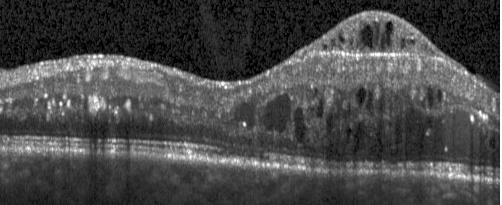intraretinal_cyst: (263, 94, 291, 131), (234, 102, 256, 130), (333, 91, 351, 120), (293, 107, 306, 140), (359, 23, 374, 49), (354, 87, 367, 107), (365, 91, 375, 113), (377, 94, 386, 115), (327, 109, 334, 135), (386, 22, 393, 47), (316, 98, 324, 119), (427, 86, 433, 109), (374, 22, 379, 46), (380, 32, 385, 51), (436, 89, 442, 102), (338, 33, 345, 44), (400, 38, 405, 49), (313, 87, 318, 98), (331, 39, 337, 47), (322, 44, 328, 50), (409, 39, 415, 44)
subretinal_fluid: (326, 107, 500, 163)
